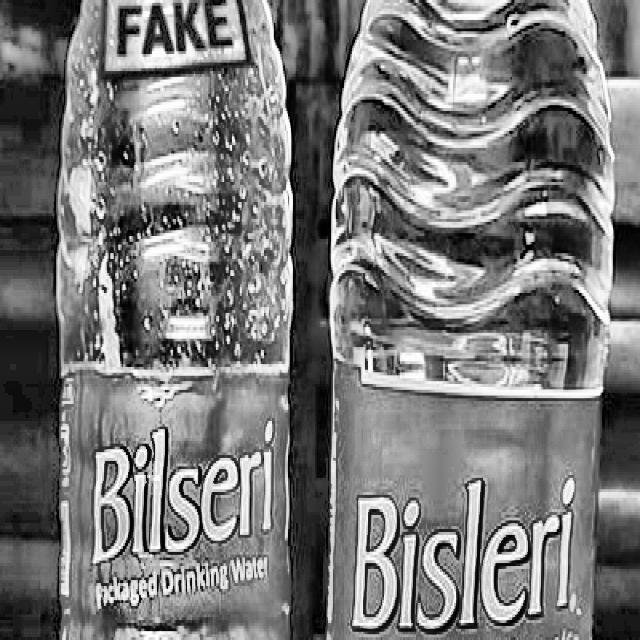bottle: (317, 0, 622, 640), (47, 0, 310, 640)
